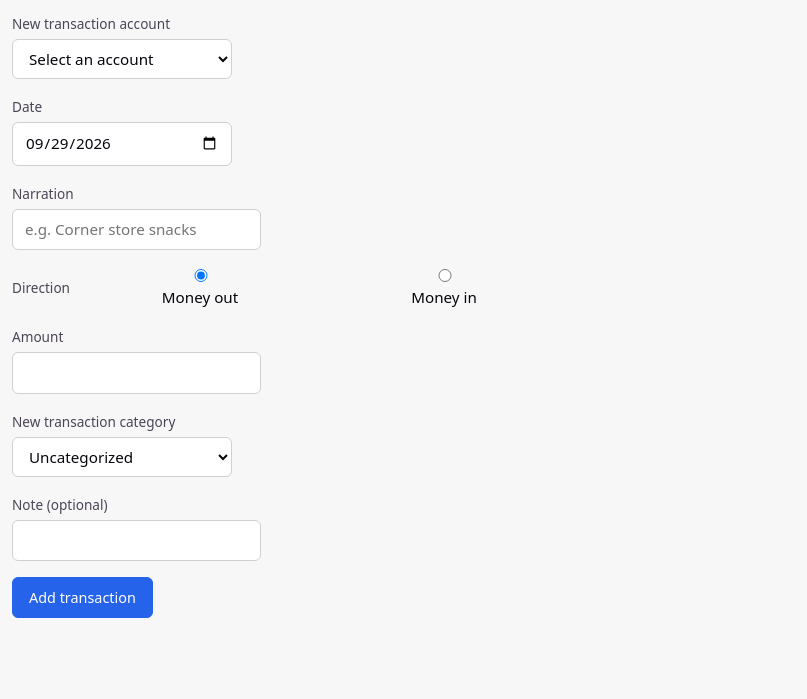
Test case: AddTransactionForm › shows the API error - e.g. the backdating rejection - without crashing
The width and height of the screenshot is (807, 699).
Select "Cash" in the dropdown labelled "New transaction account" at coordinates (122, 59), box [12,39,232,79]
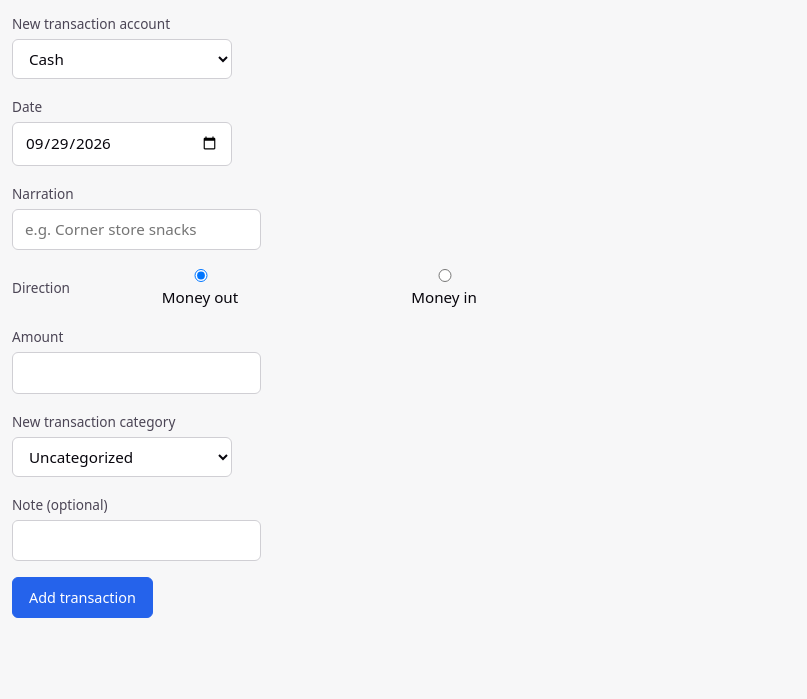
Type "Corner store" into the field labelled "Narration".
click(136, 229); type("Corner store")  # box [12,209,261,250]
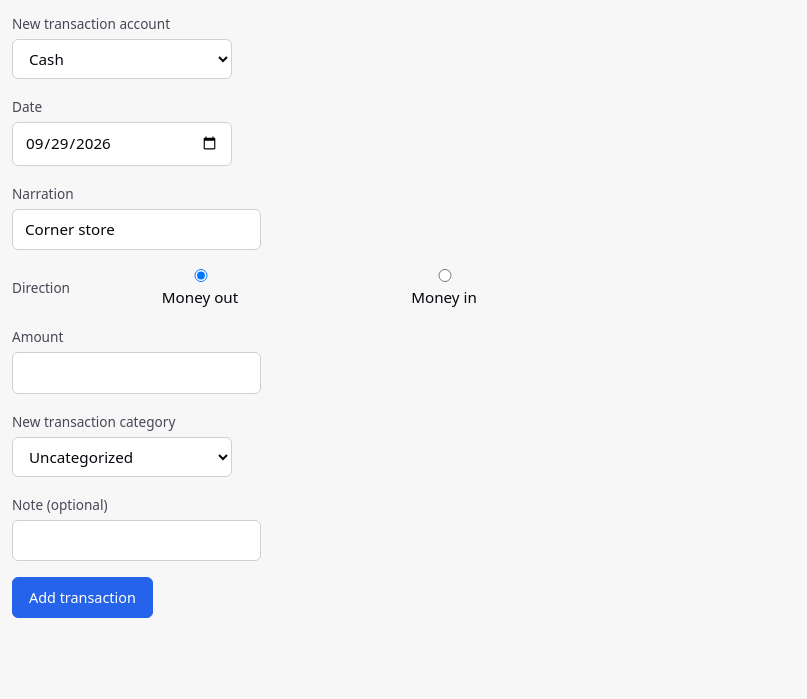
Type "12.50" into the number field labelled "Amount".
click(136, 373); type("12.50")  # box [12,352,261,394]
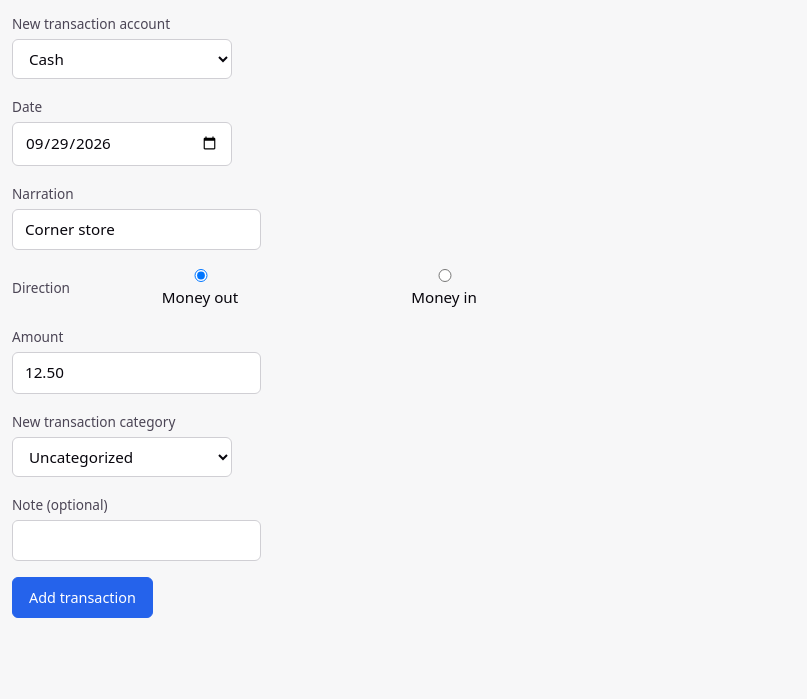
Click the button "Add transaction".
click(82, 598)  # box [12,577,153,618]
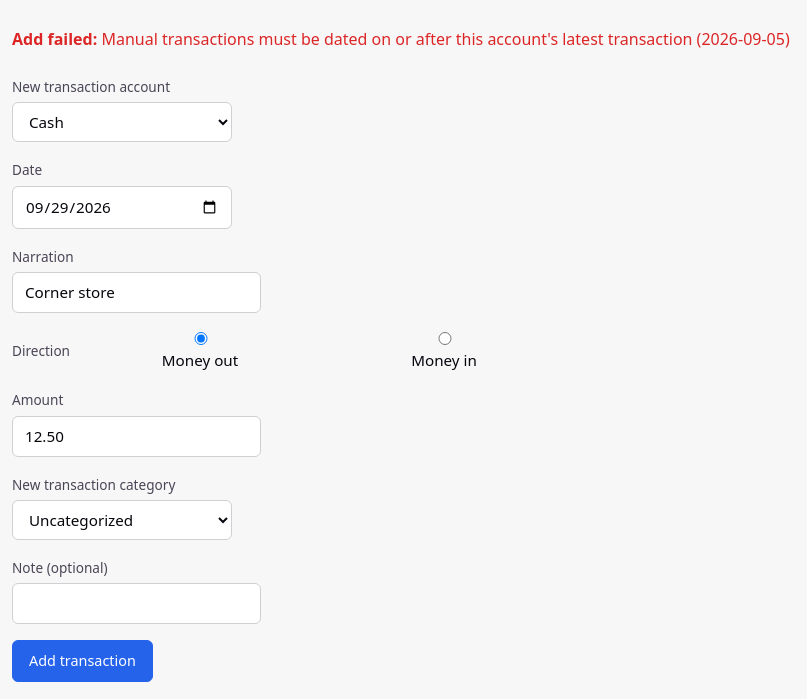
Expected: the text "on or after this account's latest transaction" is shown, [101,28,790,50]
